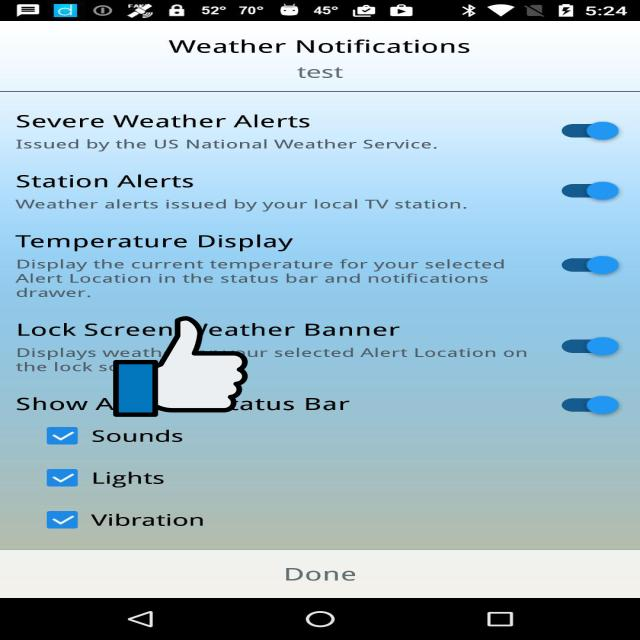privacy zuckering: (113, 314, 248, 419)
